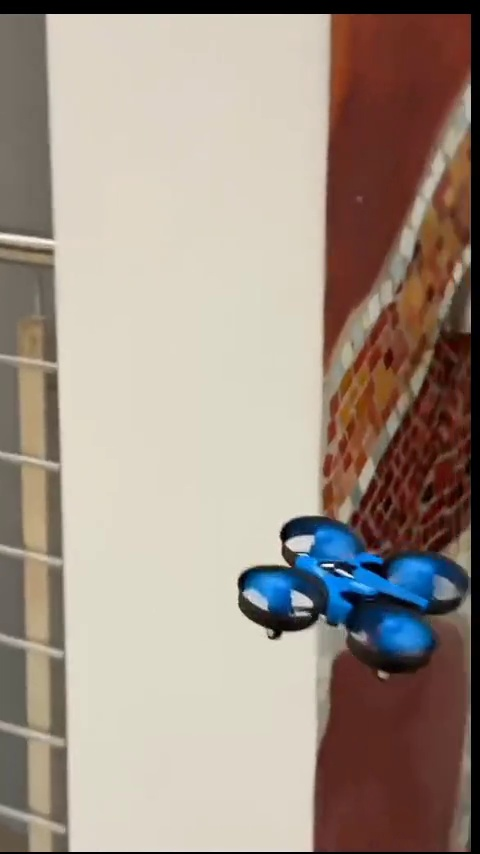drone: (232, 517, 467, 677)
